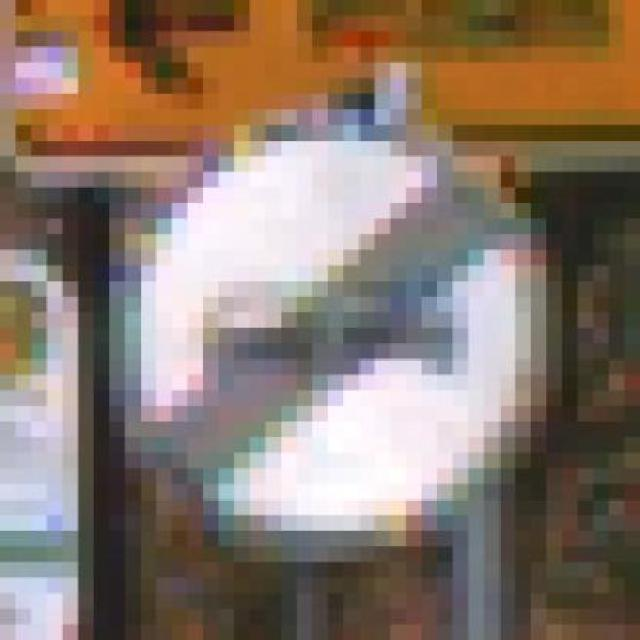No_Over_Taking: (93, 47, 578, 578)
